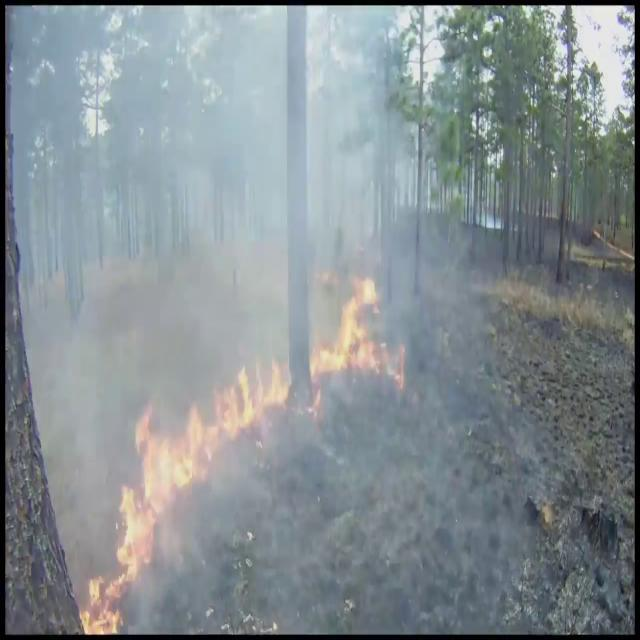Fire: (137, 346, 293, 496), (75, 481, 144, 635), (313, 262, 391, 384)
Smoke: (6, 0, 435, 527)
